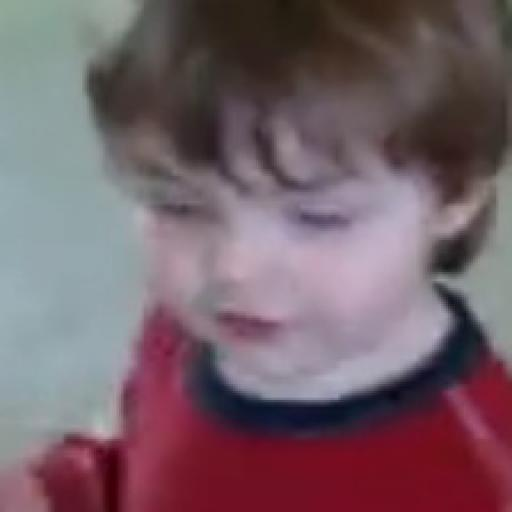Autism: (110, 12, 512, 410)
